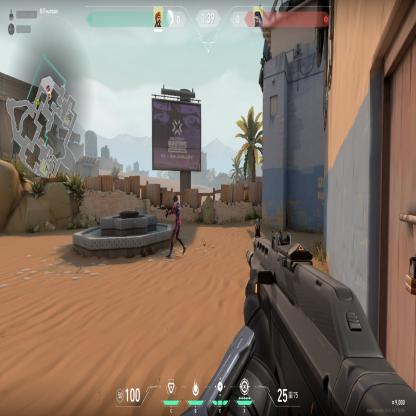enemy: (166, 196, 187, 261)
